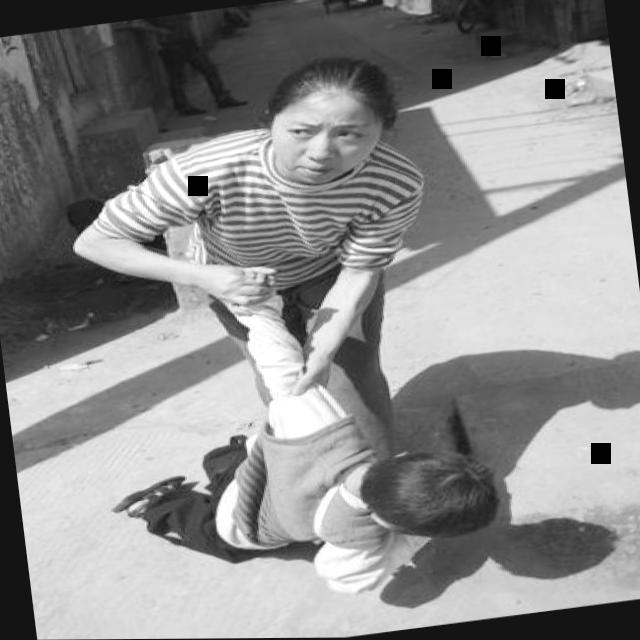Fall-Detected: (72, 221, 640, 640)
